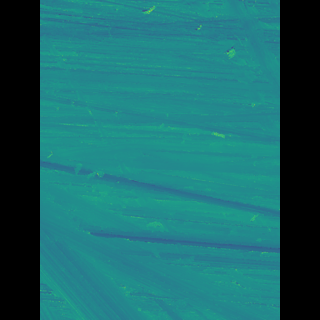Loch: (70, 29, 187, 280), (69, 181, 246, 319), (69, 156, 249, 225)
